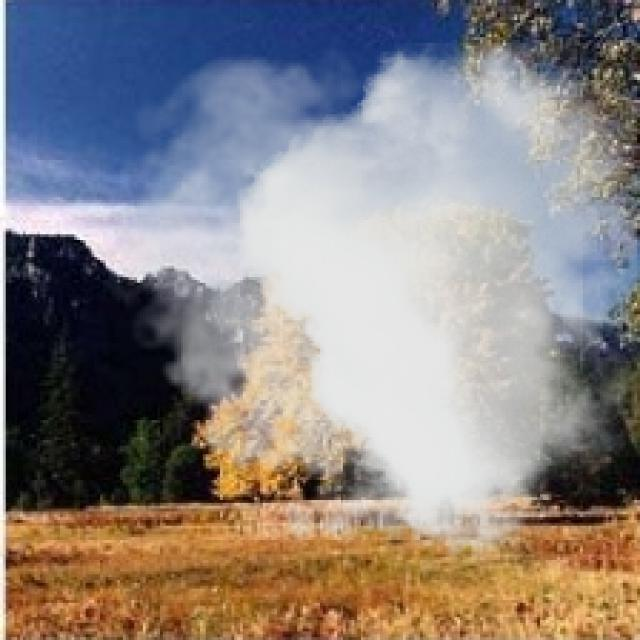smoke: (97, 43, 637, 577)
